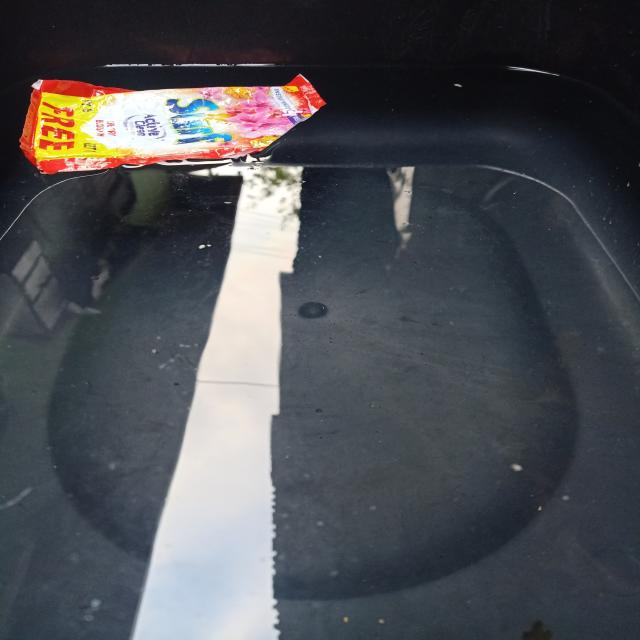Plastic Wrapper: (1, 63, 332, 192)
